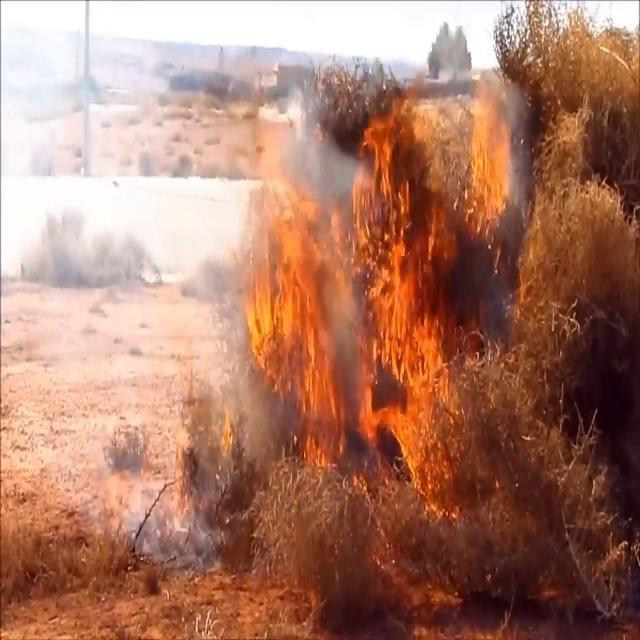Fire: (241, 101, 458, 488), (461, 75, 517, 254)
